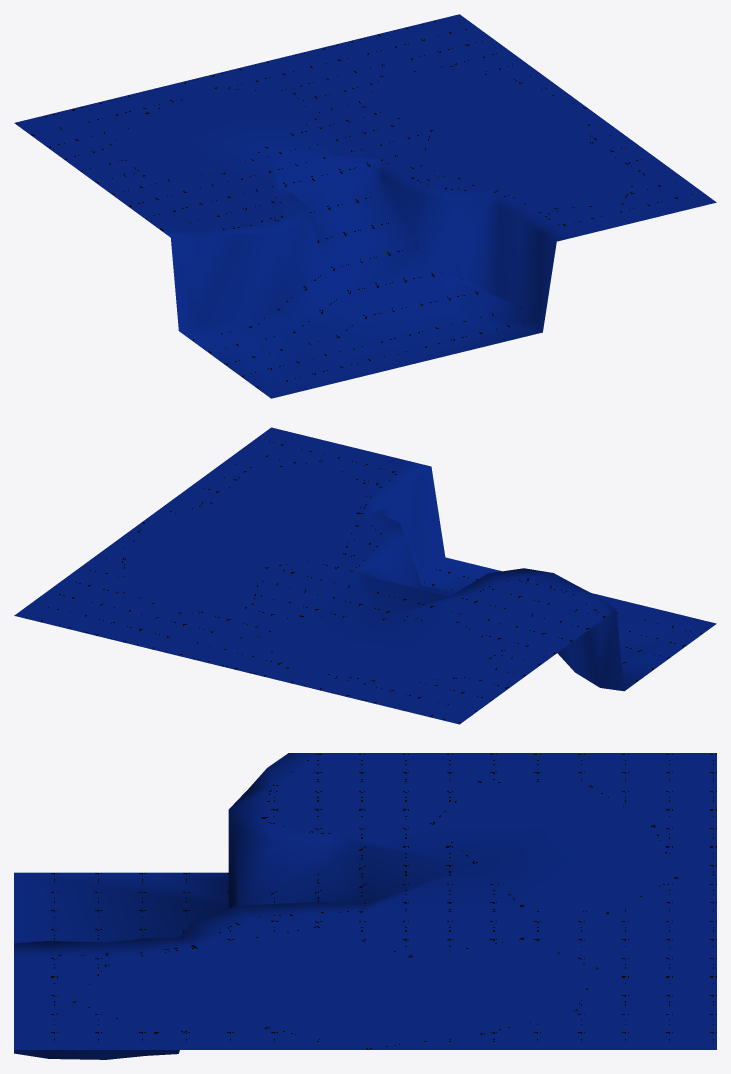
File: GRD_S_C5_S_1.fbx
3 renders of one model, top to bottom at view 1: azimuth 30°, elevation 25°; view 2: azimuth 150°, elevation 25°; view 3: azimuth 270°, elevation 25°, orthographic. The views are drawn at different scales.
Parts seen in each view (by area): view 1: material_00022000, material_C0032000, material_00012000; view 2: material_00022000, material_C0032000, material_00012000; view 3: material_00022000, material_C0032000, material_00012000.
Part boxes in pixels (x1=…): material_00022000: x1=14, y1=14, x2=716, y2=398; material_C0032000: x1=108, y1=65, x2=641, y2=209; material_00012000: x1=159, y1=159, x2=577, y2=331; material_00022000: x1=14, y1=427, x2=716, y2=724; material_C0032000: x1=122, y1=460, x2=505, y2=681; material_00012000: x1=350, y1=461, x2=624, y2=691; material_00022000: x1=14, y1=753, x2=716, y2=1049; material_C0032000: x1=71, y1=781, x2=679, y2=1049; material_00012000: x1=14, y1=753, x2=368, y2=1059.
Bounding box in the file's own units: 12800 × 2400 × 12800.
